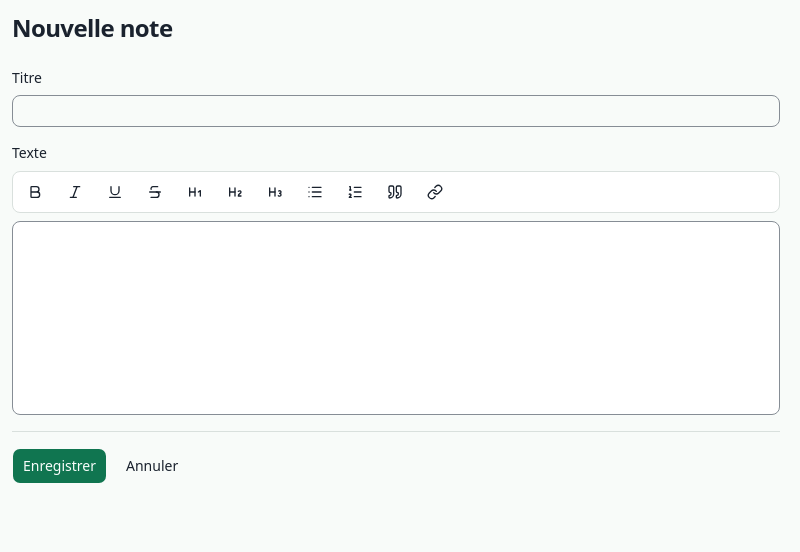
it: Note editor › an empty title is refused before any request
Click the button "Enregistrer" at (60,466), box x1=12 y1=448 x2=107 y2=484
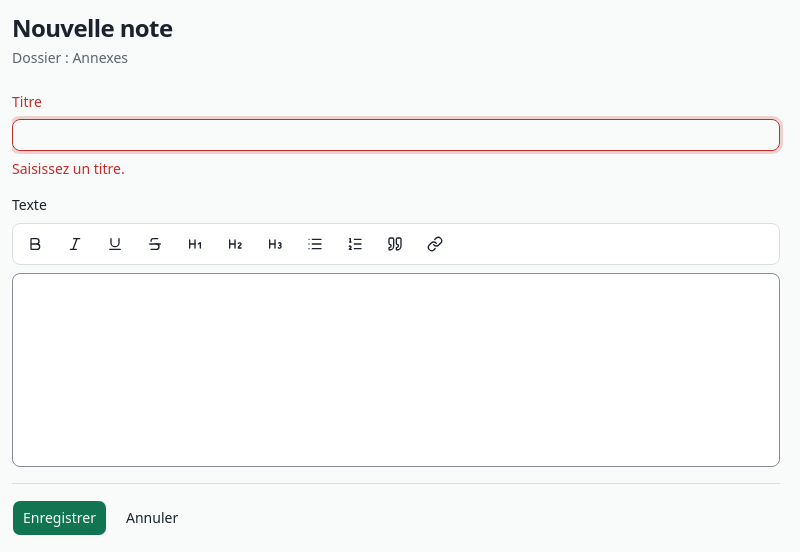
Check: the text "Saisissez un titre." is shown, box x1=12 y1=159 x2=125 y2=178
